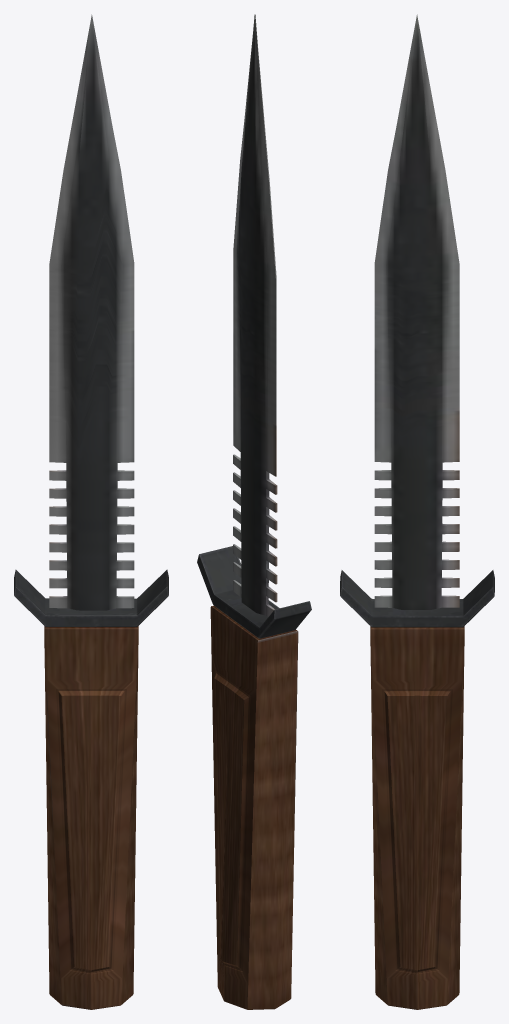
Rendered from fish_knife.glb.
3 renders of one model, left to right at view 1: azimuth 90°, elevation 25°; view 2: azimuth 210°, elevation 25°; view 3: azimuth 270°, elevation 25°, orthographic.
Visible parts, largest first — view 1: Dagger5; view 2: Dagger5; view 3: Dagger5.
Boxes of the visible parts, x1=… form: Dagger5: x1=14, y1=14, x2=168, y2=1009; Dagger5: x1=197, y1=14, x2=311, y2=1009; Dagger5: x1=340, y1=14, x2=494, y2=1009.
Size of the model in its own units: 0.0417 by 0.5996 by 0.0857.
Materials: 1 (1 with a texture image).
